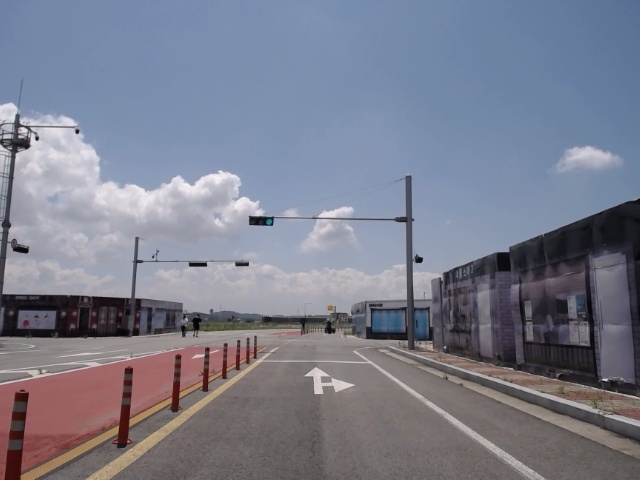green_3: (249, 217, 274, 225)
